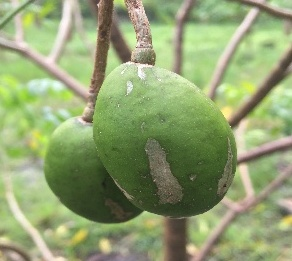Coc: (89, 54, 261, 220)
